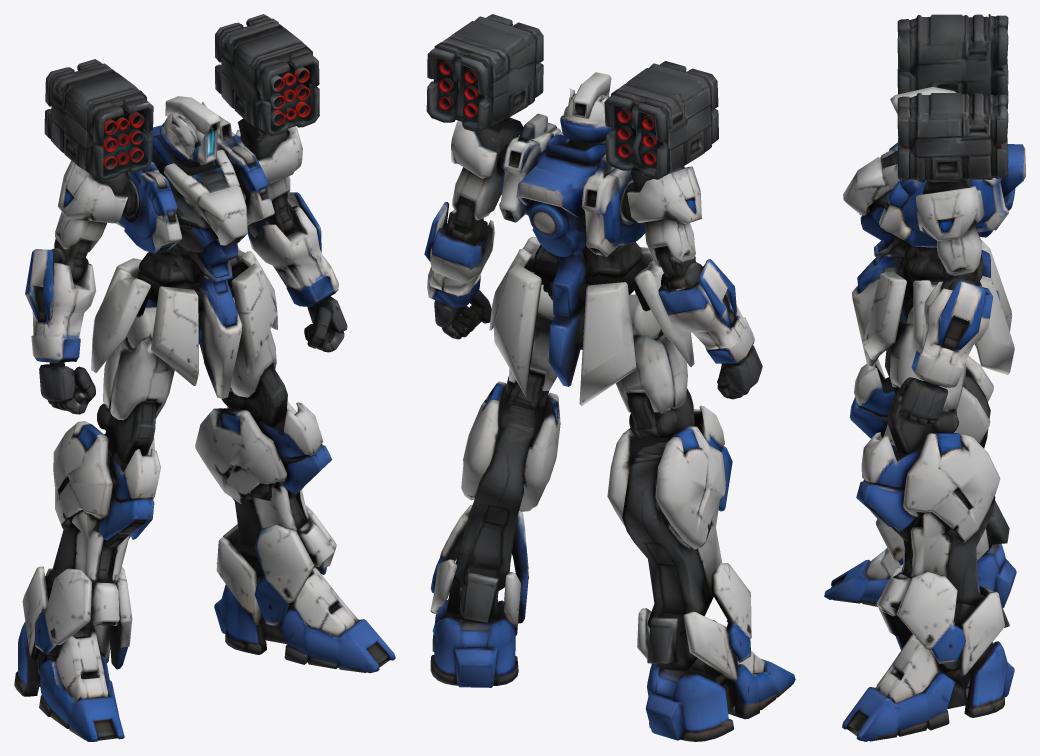
The model's file is mech.glb.
The picture shows the model from 3 angles, left to right: view 1: azimuth 30°, elevation 25°; view 2: azimuth 150°, elevation 25°; view 3: azimuth 270°, elevation 25°; orthographic projection. The views are drawn at different scales.
Visible parts, largest first — view 1: tripo_node_78d5d809-5bd0-48eb-8387-d7276f0ef00b; view 2: tripo_node_78d5d809-5bd0-48eb-8387-d7276f0ef00b; view 3: tripo_node_78d5d809-5bd0-48eb-8387-d7276f0ef00b.
Part boxes in pixels (x1,y1,x2,y2): tripo_node_78d5d809-5bd0-48eb-8387-d7276f0ef00b: [14, 14, 395, 741]; tripo_node_78d5d809-5bd0-48eb-8387-d7276f0ef00b: [424, 14, 795, 741]; tripo_node_78d5d809-5bd0-48eb-8387-d7276f0ef00b: [824, 14, 1025, 741].
Bounding box in the file's own units: 0.5562 × 0.9995 × 0.3032.
Materials: 1 (1 with a texture image).
